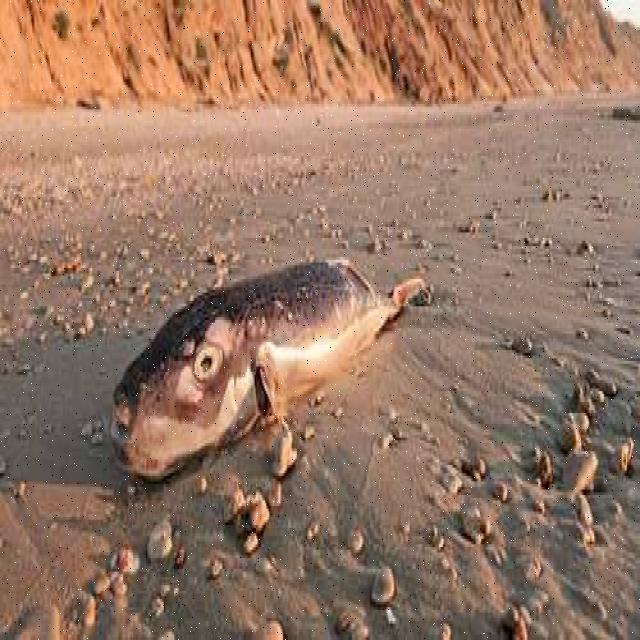Balik: (112, 260, 423, 478)
